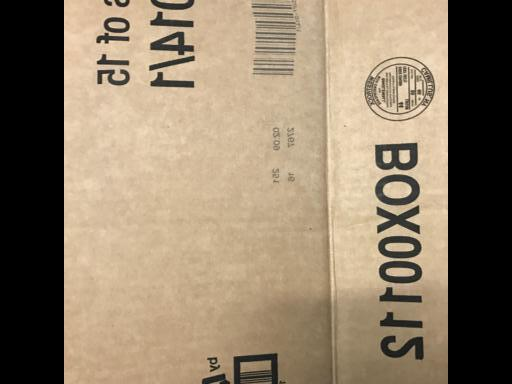cardboard: (71, 5, 445, 384)
